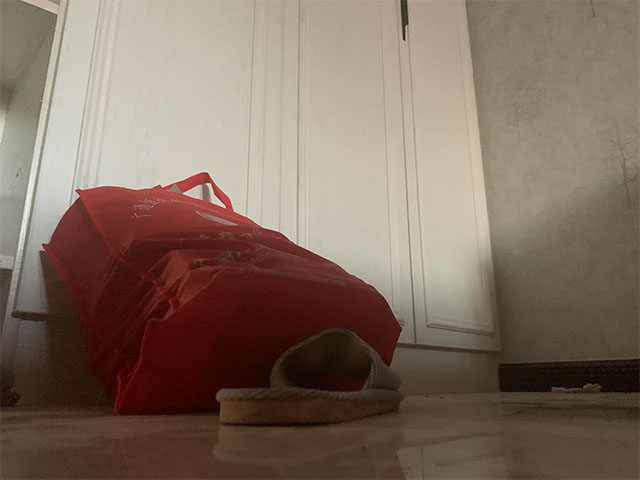cabinet: (1, 1, 501, 393)
slippers: (215, 327, 405, 424)
